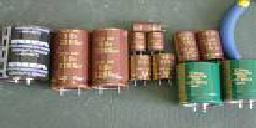Electrolytic-Capacitor: (3, 20, 50, 89), (47, 24, 90, 99), (91, 25, 128, 101), (175, 60, 224, 115), (223, 57, 256, 110)
